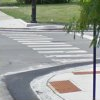crosswalk: (2, 33, 100, 63)
